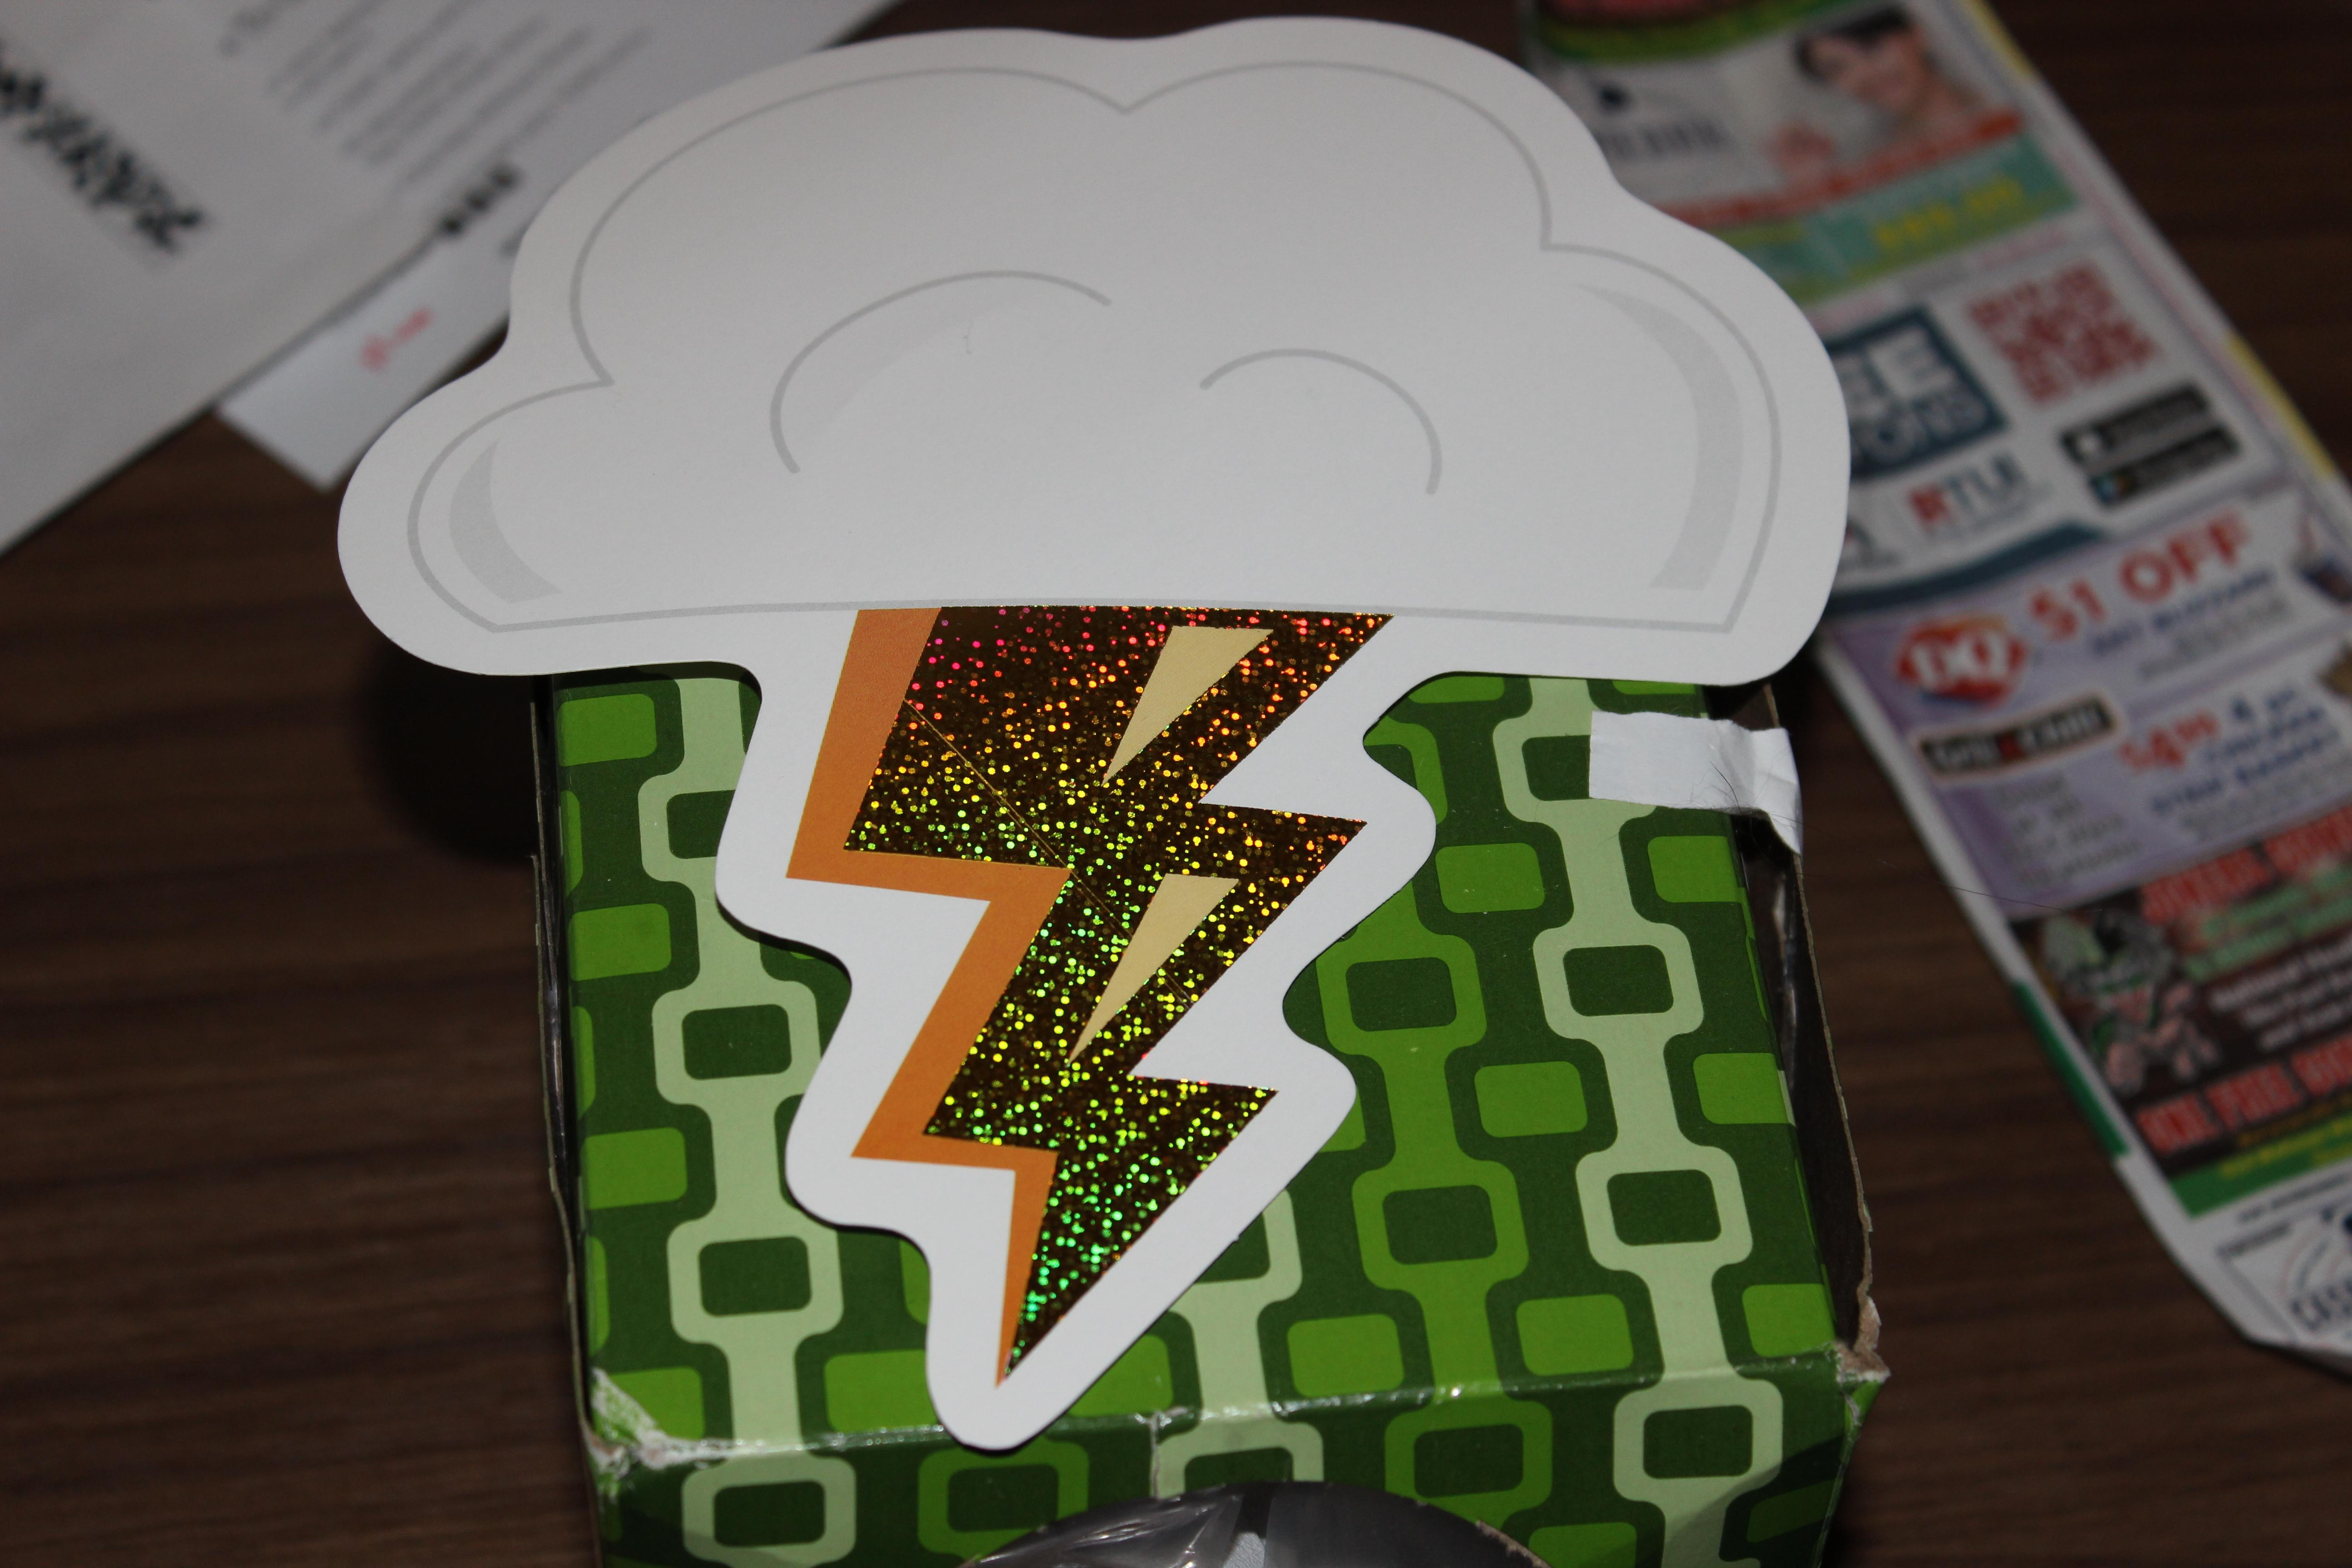cloudSign: (315, 10, 1909, 1465)
